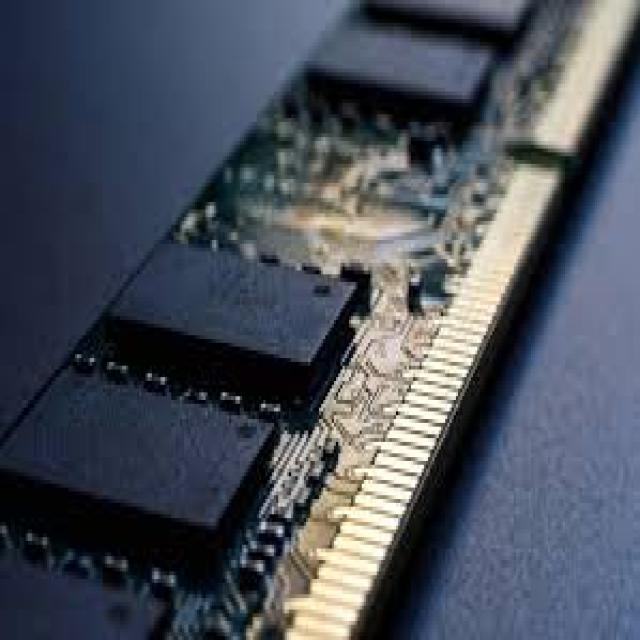Ram: (54, 76, 616, 640)
